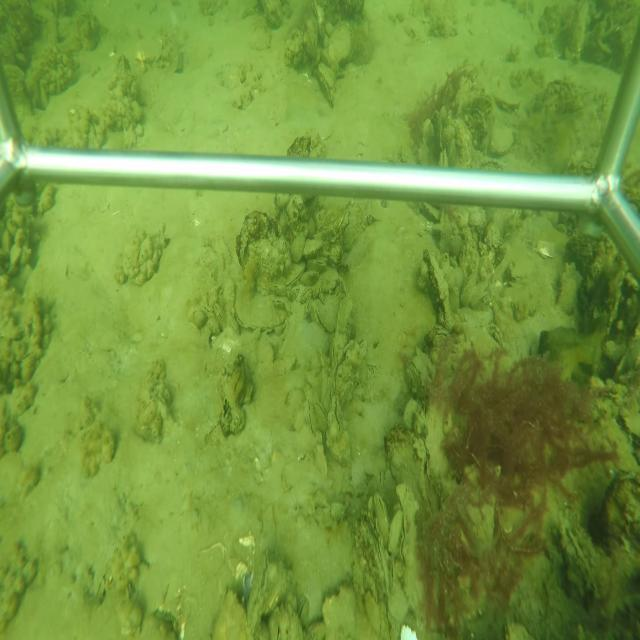Oyster-Closed: (558, 510, 601, 606), (353, 513, 388, 614), (233, 280, 286, 333), (423, 244, 452, 327), (247, 548, 274, 633), (236, 211, 268, 270), (328, 394, 349, 444), (317, 61, 337, 108), (312, 429, 330, 479), (374, 492, 389, 544), (330, 205, 350, 241), (303, 400, 319, 437), (285, 263, 306, 289), (298, 594, 310, 627), (437, 147, 449, 165)
Oyster-Indeterminate: (321, 582, 360, 640), (304, 6, 320, 65)
